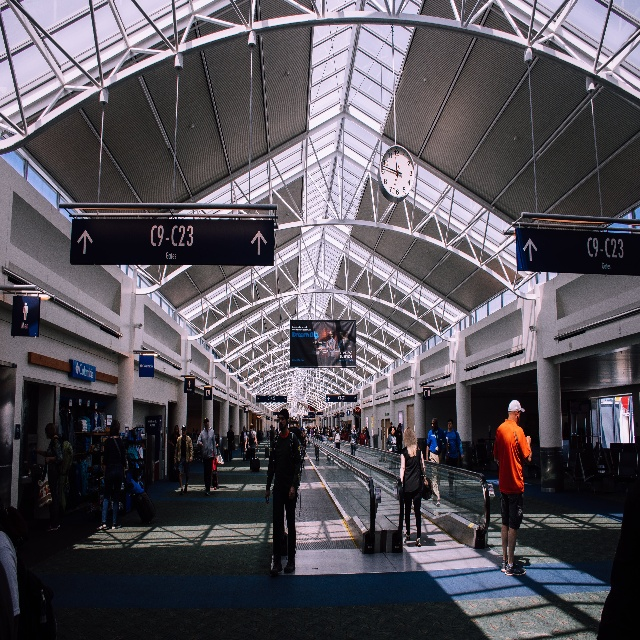Sin_guantes: (288, 487, 296, 500), (264, 488, 270, 504), (526, 435, 531, 445), (445, 453, 449, 461), (199, 441, 204, 447), (45, 456, 49, 463)
